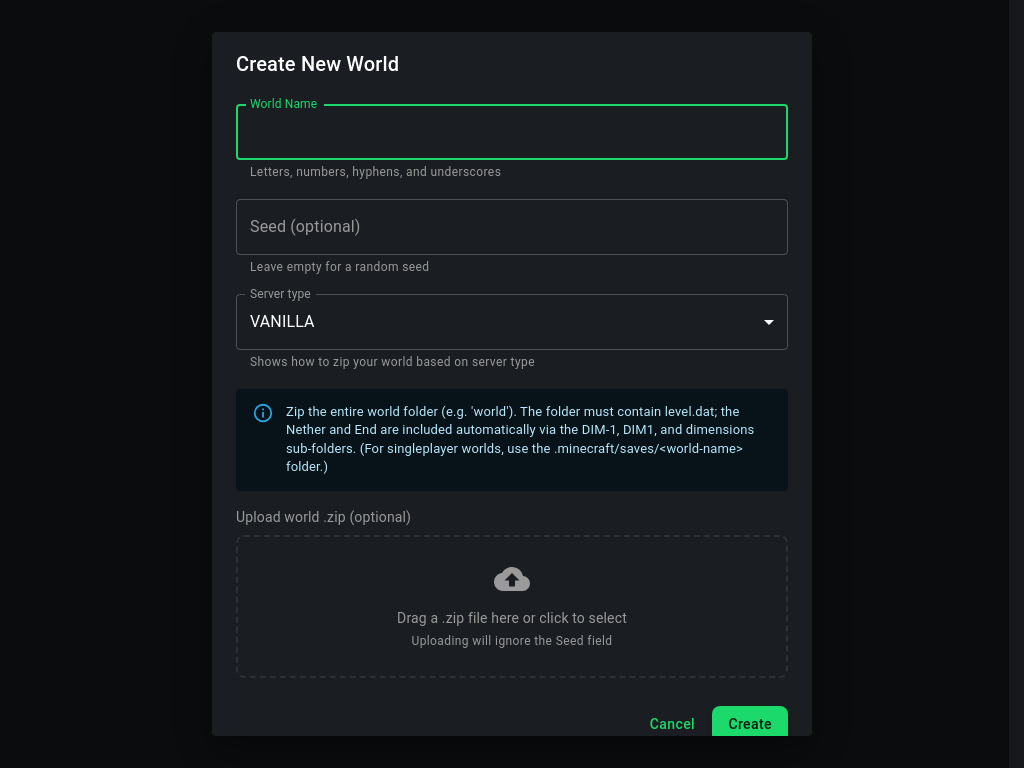
Test case: CreateWorldDialog › shows split-folder guidance for SPIGOT
Press the mouse on the dropdown named "server type" at (282, 322), box [250,312,315,331]
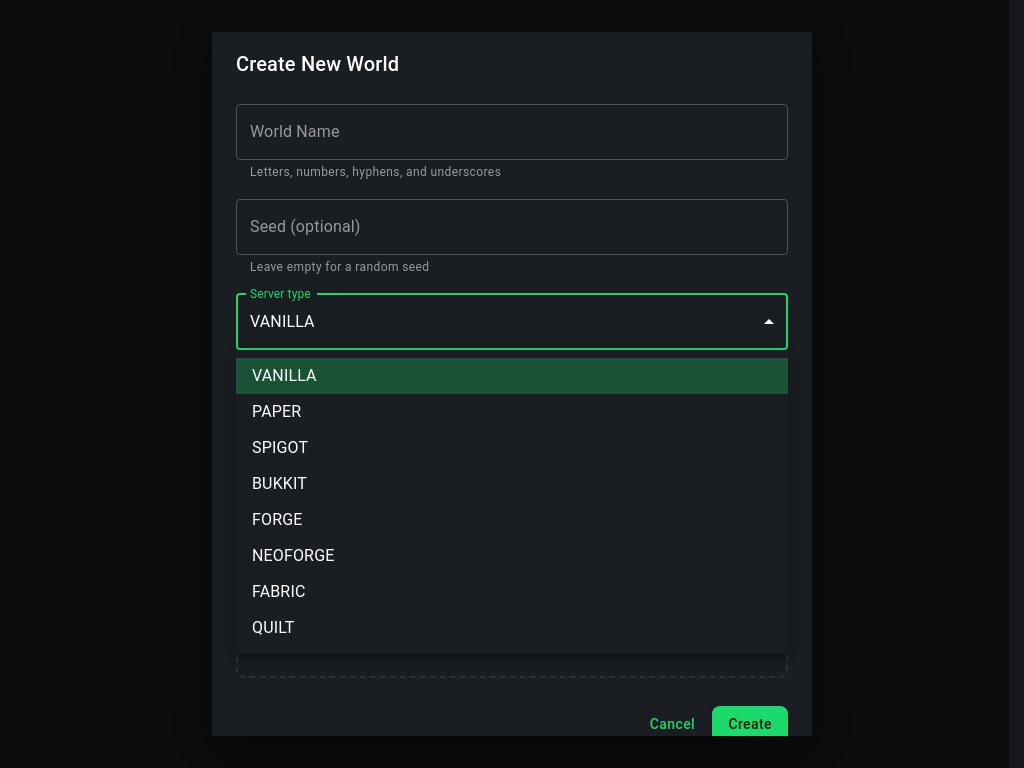
Click the option "SPIGOT" at (280, 448), box [252,438,308,457]
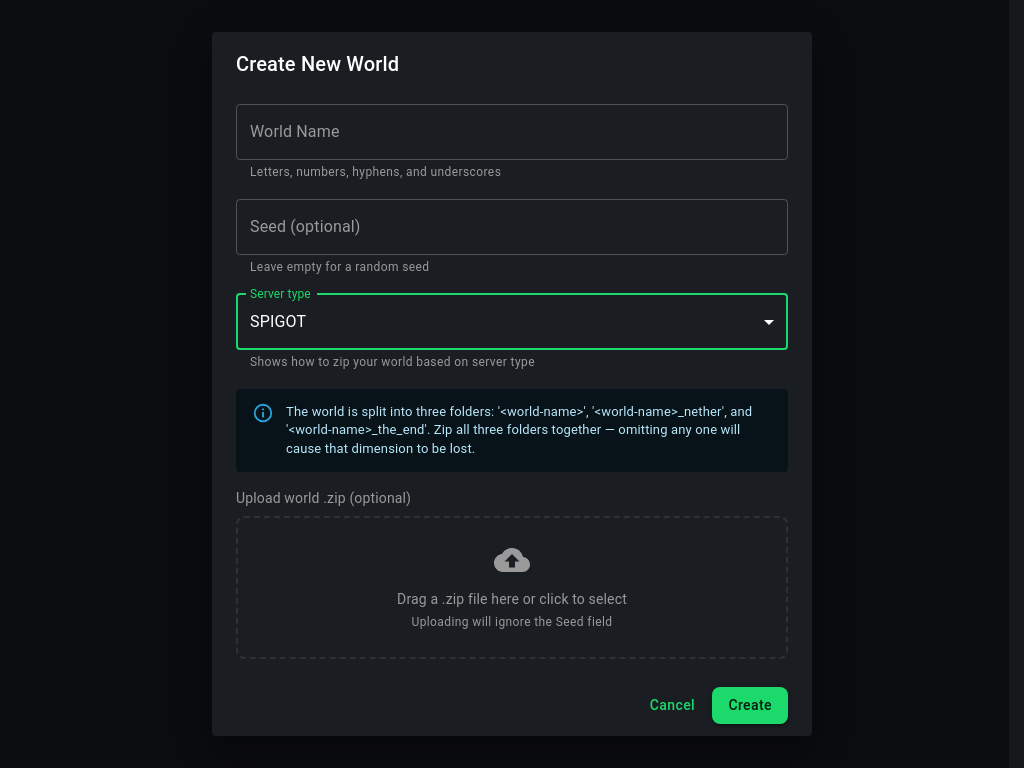
expect the text "all three folders together" is shown: met, box [286,404,752,456]
